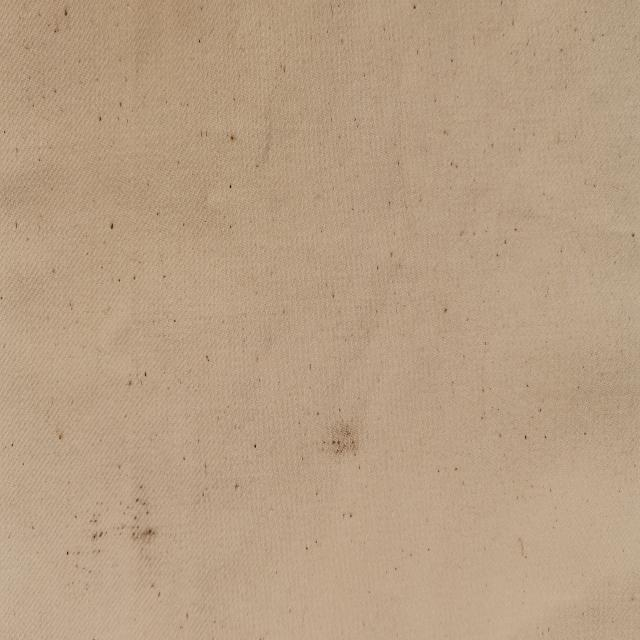taaaches: (124, 487, 160, 557), (324, 404, 364, 466), (82, 504, 108, 562)
